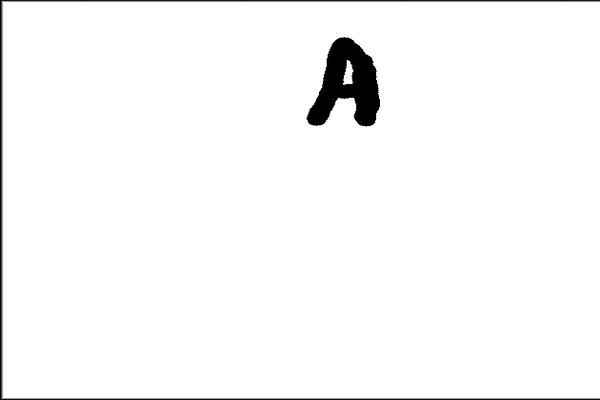A: (300, 30, 385, 139)
